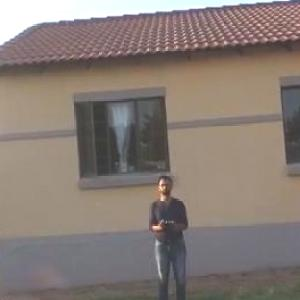follow: (146, 169, 196, 299)
